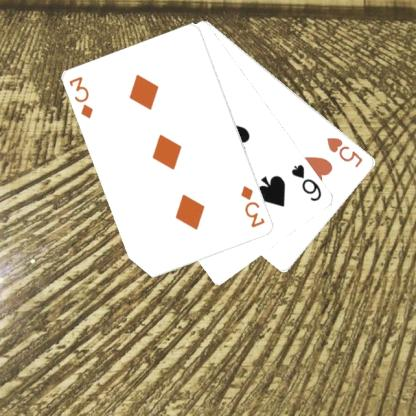3D: (238, 183, 267, 229), (66, 74, 95, 120)
5H: (324, 134, 365, 169)
6S: (288, 161, 324, 203)
